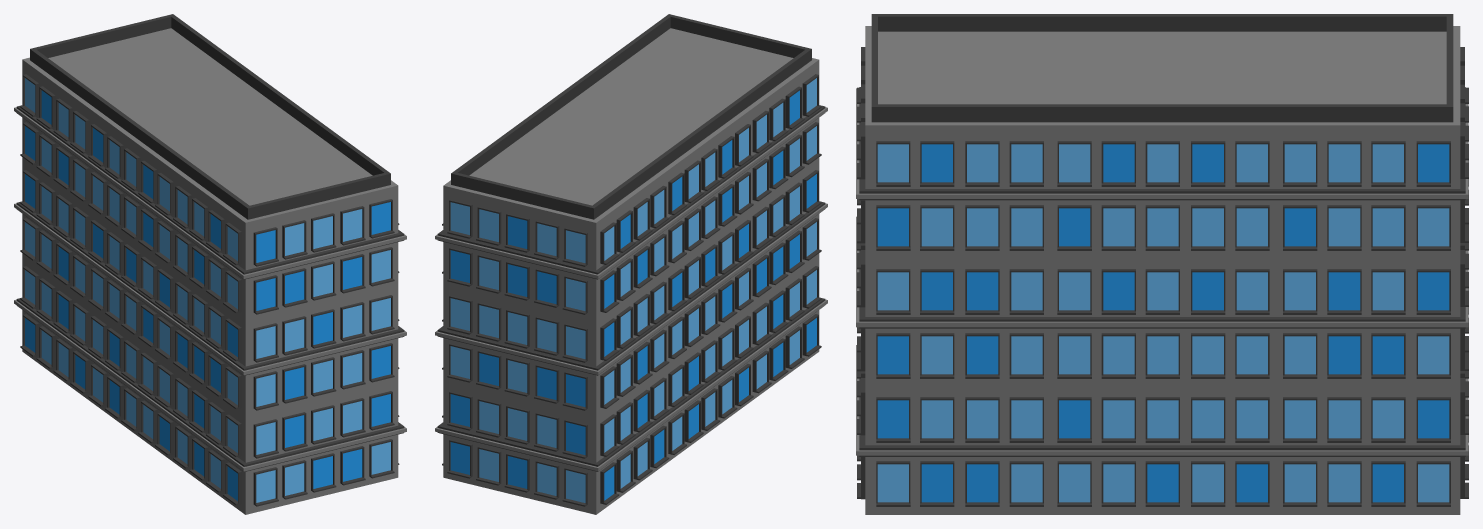
File: building_01_Top.fbx
3 views of the same model, side by side, from view 1: azimuth 30°, elevation 25°; view 2: azimuth 150°, elevation 25°; view 3: azimuth 270°, elevation 25° (orthographic). The views are drawn at different scales.
Parts seen in each view (by area): view 1: building_01_Top; view 2: building_01_Top; view 3: building_01_Top.
Part boxes in pixels (left/top/right/bottom): building_01_Top: left=14, top=14, right=406, bottom=514; building_01_Top: left=435, top=14, right=827, bottom=514; building_01_Top: left=856, top=14, right=1468, bottom=514.
Size of the model in its own units: 1074 by 1898 by 2605.
Materials: 1 (1 with a texture image).
